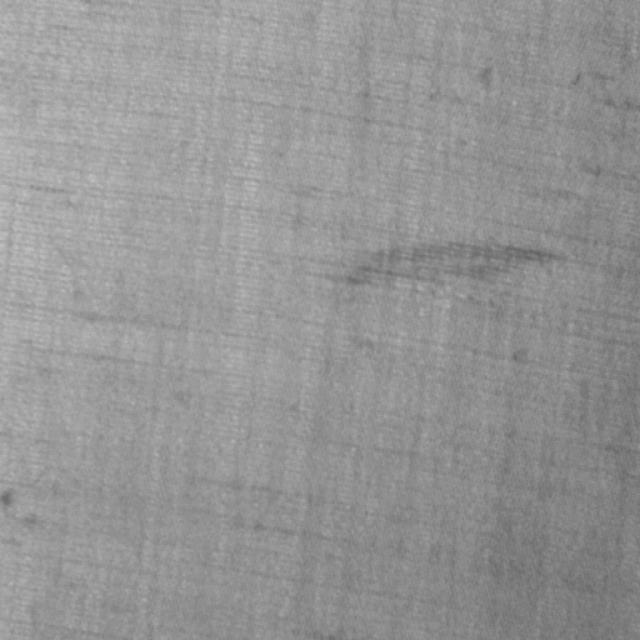oil spot: (341, 236, 569, 290)
